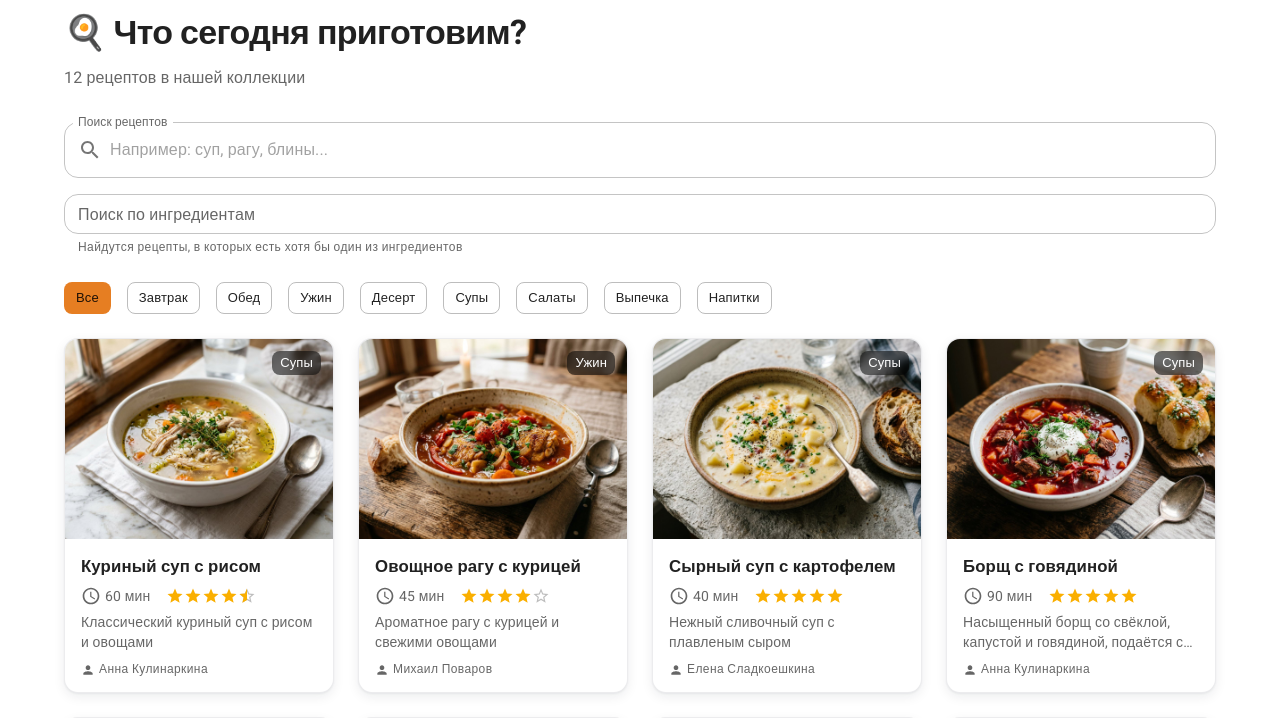
Test case: страницы рендерятся › RecipesPage фильтрует по категории «Супы»
Expected: the heading "Куриный суп с рисом" is shown, top-left (81, 556), bottom-right (261, 576)
Click the button "Супы" at (472, 298), box top-left (443, 282), bottom-right (500, 314)
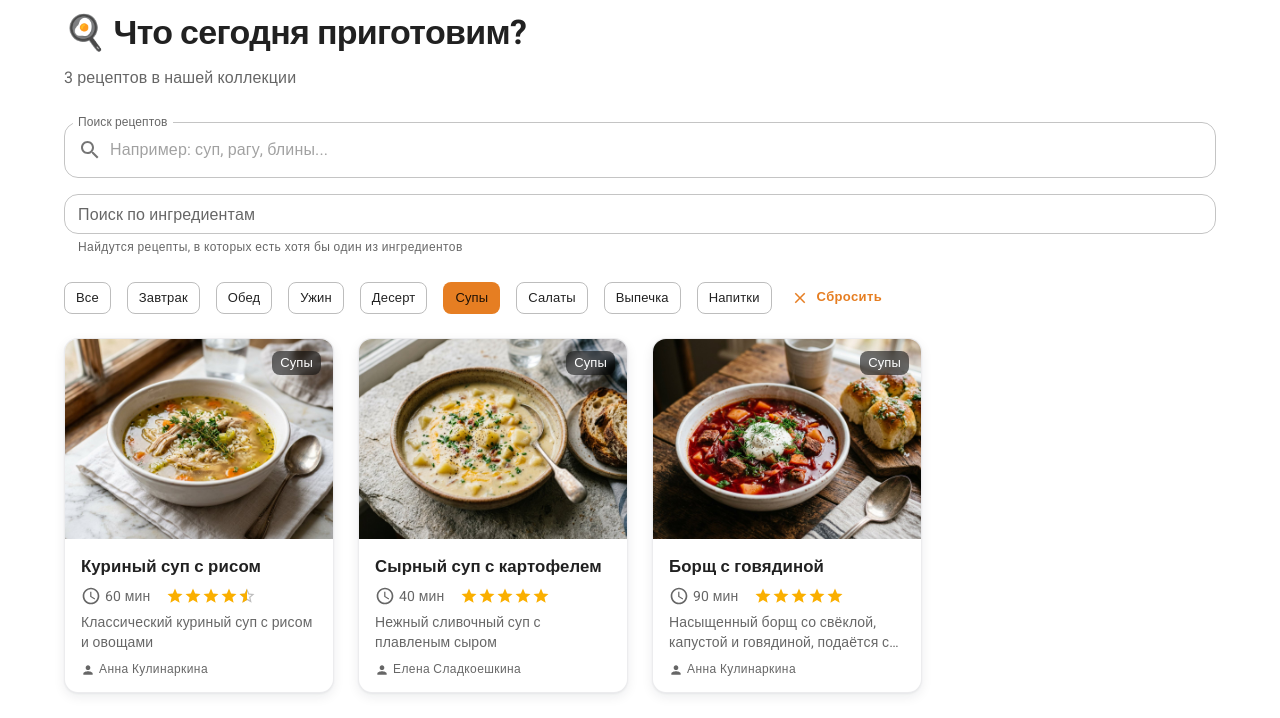
Expected: the heading "Сырный суп с картофелем" is shown, top-left (375, 553), bottom-right (611, 580)
Now the heading "Овощное рагу с курицей" is gone
